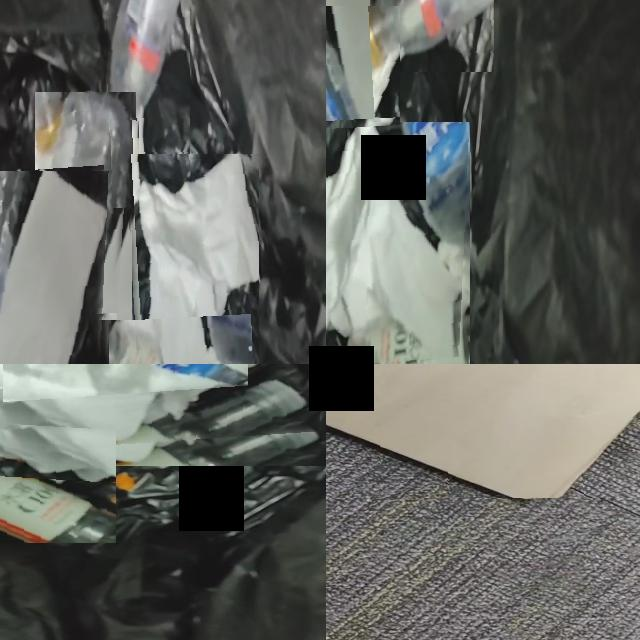bottle: (35, 92, 130, 364), (108, 0, 190, 155), (359, 0, 494, 72), (0, 468, 116, 543)
carton: (326, 364, 640, 498)
paper: (326, 122, 464, 358), (127, 154, 259, 364), (0, 364, 263, 452), (0, 171, 107, 364), (326, 6, 400, 128), (111, 121, 139, 208)
